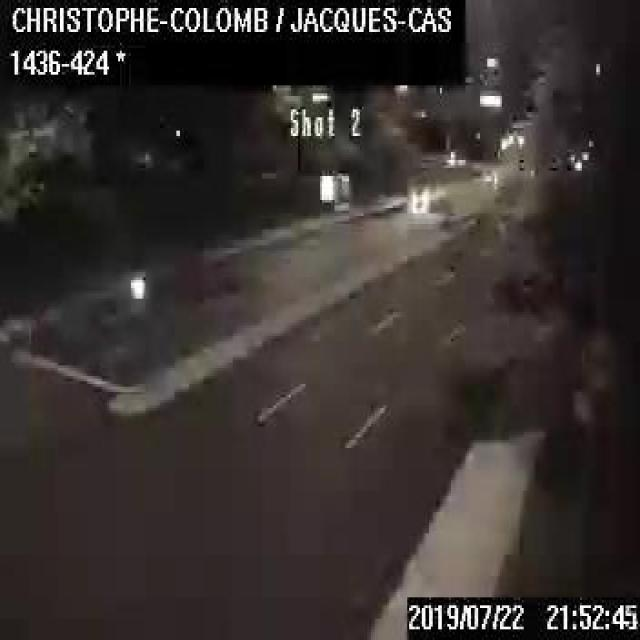vehicle: (411, 182, 437, 202)
